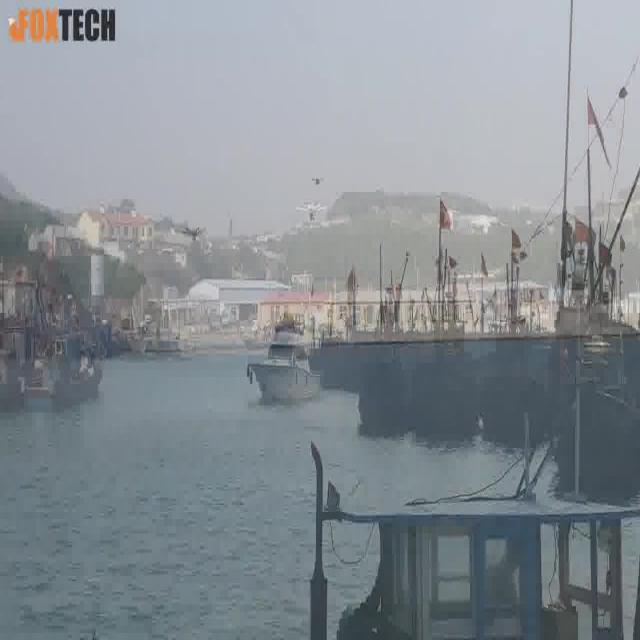drones: (305, 166, 327, 193)
